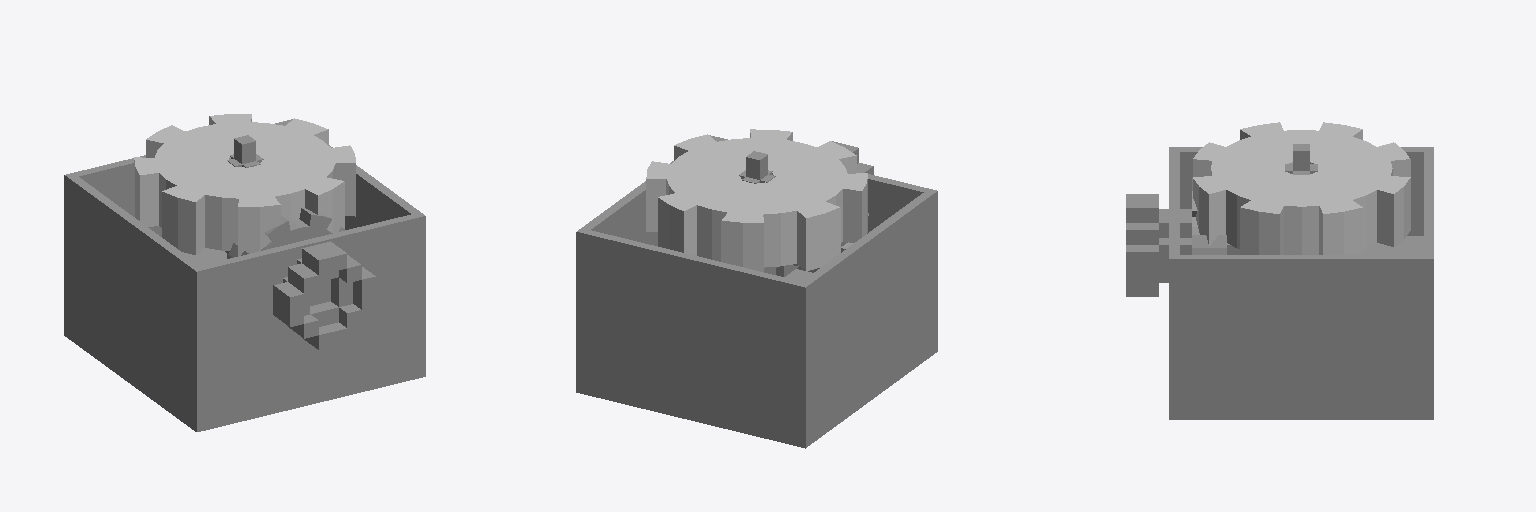
File: grinder_total.obj
The picture shows the model from 3 angles: view 1: azimuth 30°, elevation 25°; view 2: azimuth 150°, elevation 25°; view 3: azimuth 270°, elevation 25°; orthographic projection.
Parts seen in each view (by area): view 1: Cube.001_Cube.003, Gear.002, Rod.001_Cube.004; view 2: Cube.001_Cube.003, Gear.002, Rod.001_Cube.004; view 3: Cube.001_Cube.003, Gear.002, Rod.001_Cube.004.
Boxes of the visible parts, <box> form: Cube.001_Cube.003: <box>64,119,425,431</box>; Gear.002: <box>134,114,355,256</box>; Rod.001_Cube.004: <box>225,208,375,349</box>; Cube.001_Cube.003: <box>576,135,937,448</box>; Gear.002: <box>646,129,867,271</box>; Rod.001_Cube.004: <box>764,141,873,276</box>; Cube.001_Cube.003: <box>1169,144,1433,419</box>; Gear.002: <box>1193,122,1410,254</box>; Rod.001_Cube.004: <box>1126,178,1239,296</box>.
Size of the model in its own units: 2 by 1.81 by 2.33.